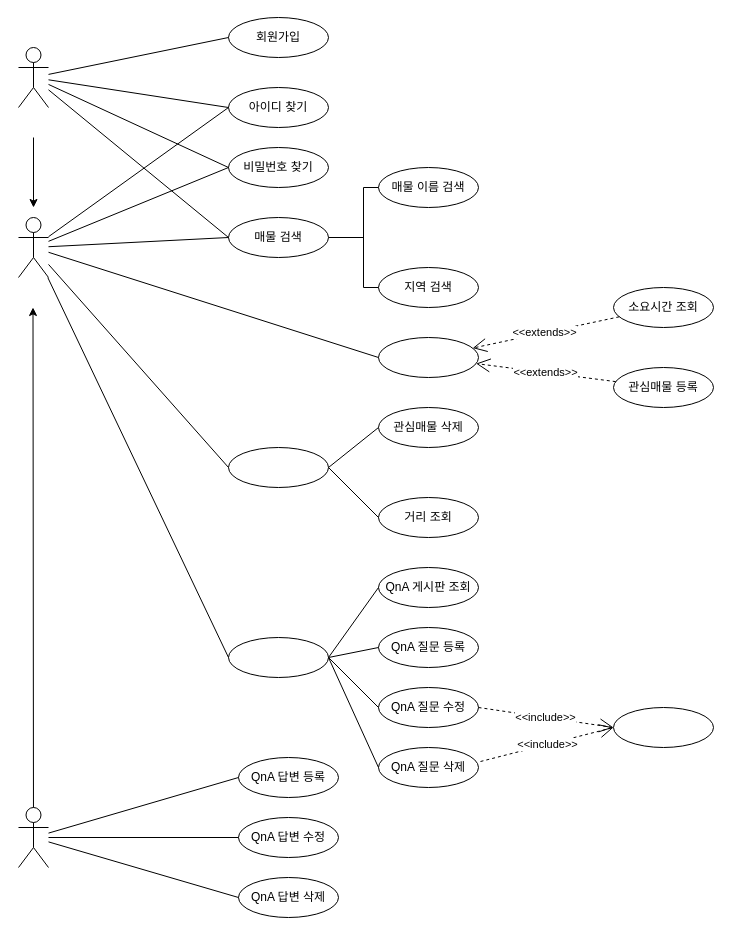
The diagram is 731 pixels wide and 935 high, and some of its shapes have lost their labels. Each missing label, with the centre of its shape:
"QnA 질문 관리" belongs at point 278,657.
"관리자" belongs at point 33,837.
"관심매물 관리" belongs at point 278,467.
"매물 상세조회" belongs at point 428,357.
"비회원" belongs at point 33,77.
"회원" belongs at point 33,247.
"회원 인증" belongs at point 663,727.
